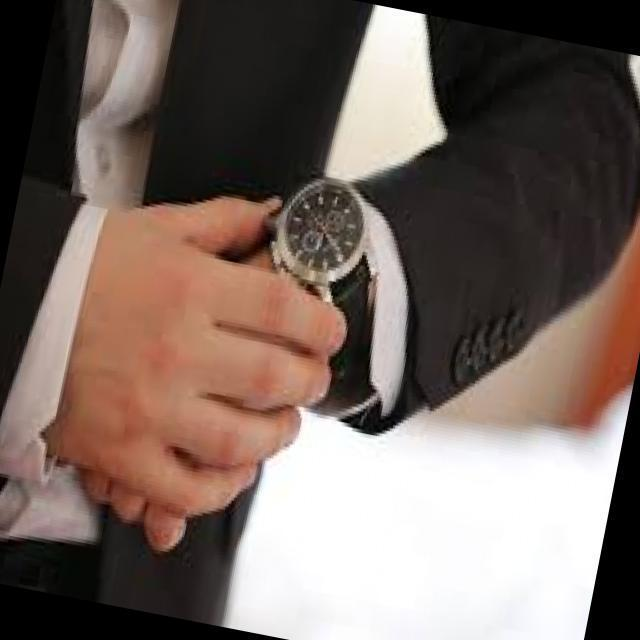Watch: (268, 170, 392, 428)
